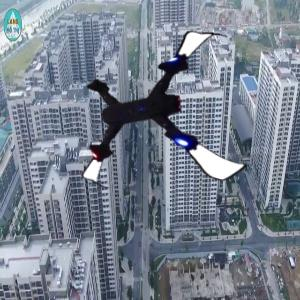drone: (77, 21, 249, 193)
